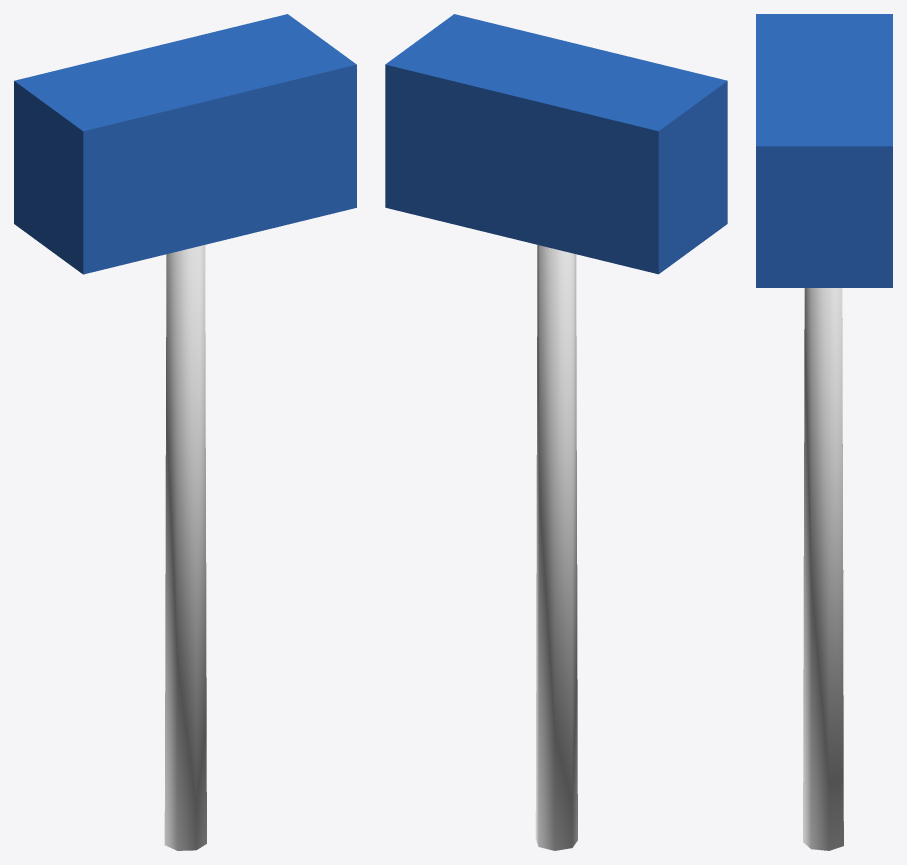
Rendered from cobalt_hammer.glb.
3 renders of one model, left to right at view 1: azimuth 30°, elevation 25°; view 2: azimuth 150°, elevation 25°; view 3: azimuth 270°, elevation 25°, orthographic.
Parts seen in each view (by area): view 1: cobalt_hammer_v0; view 2: cobalt_hammer_v0; view 3: cobalt_hammer_v0.
Boxes of the visible parts, <box> form: cobalt_hammer_v0: <box>14,14,356,850</box>; cobalt_hammer_v0: <box>385,14,727,850</box>; cobalt_hammer_v0: <box>756,14,892,850</box>.
Bounding box in the file's own units: 0.32 × 0.86 × 0.14.
